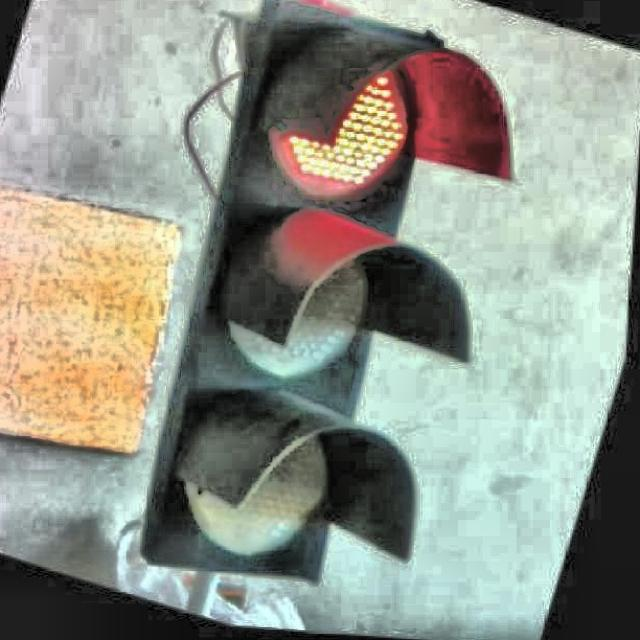red: (162, 36, 456, 572)
